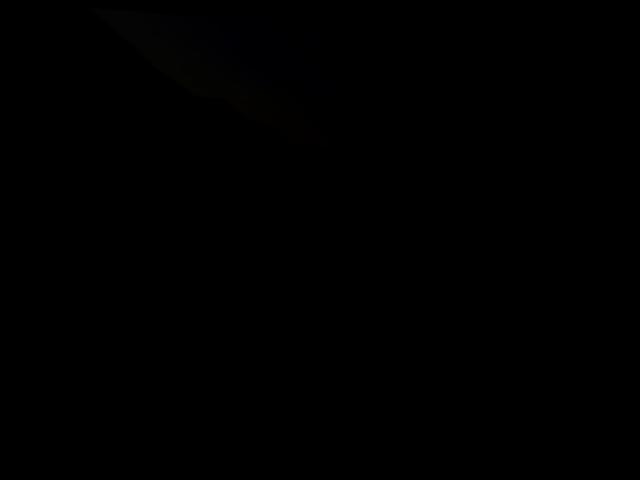iha: (387, 44, 399, 54)
